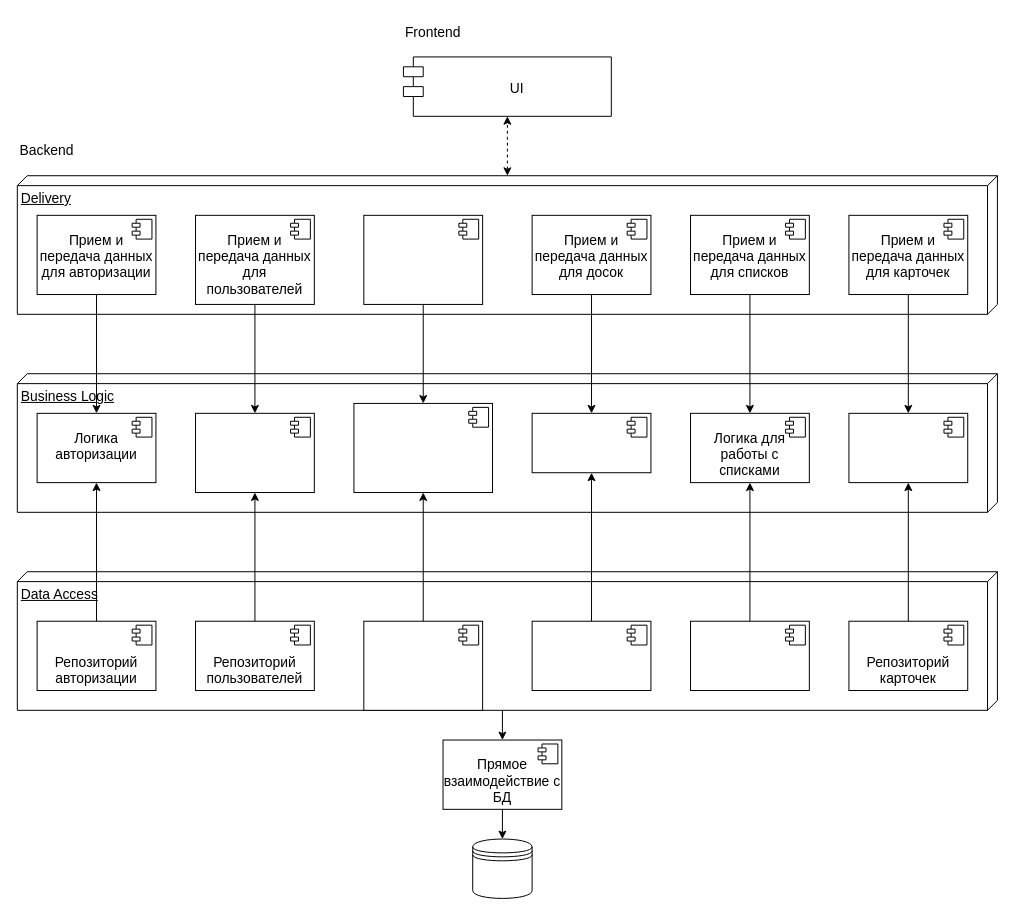
Some shapes in this 1015 by 916 pixel diagram are drawn without their labels. The centre of each missing label's shape, as x and y in pixels:
"Логика для работы с досками" goes at (591,442).
"Логика для работы с карточками" goes at (908,447).
"Логика для работы с пользователями" goes at (254,452).
"Логика для работы с рабочими пространствами" goes at (423,447).
"Прием и передача данных для рабочих пространств" goes at (423,259).
"Репозиторий досок" goes at (591,655).
"Репозиторий рабочих пространств" goes at (423,665).
"Репозиторий списков" goes at (749,655).
